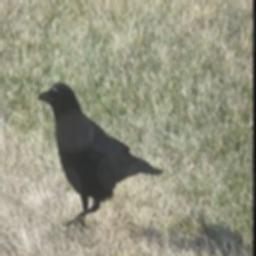Crow: (33, 76, 159, 225)
